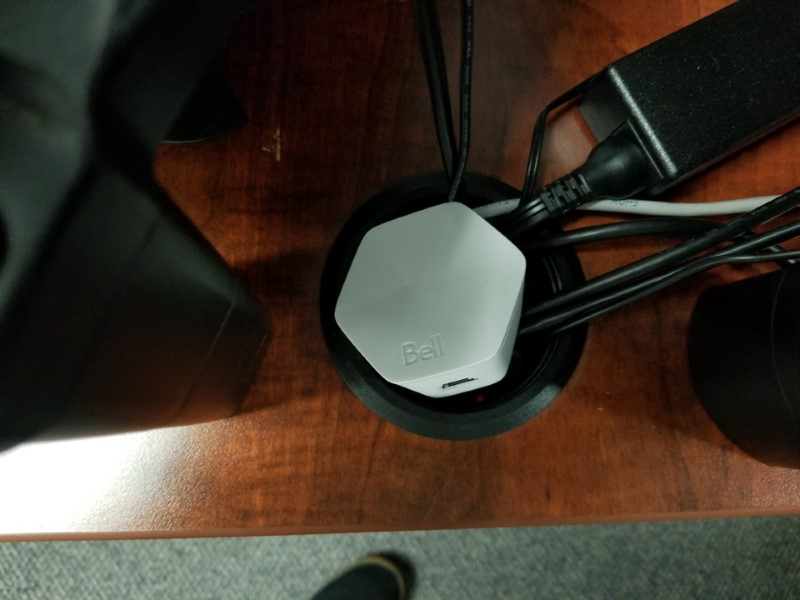pod: (334, 201, 531, 405)
